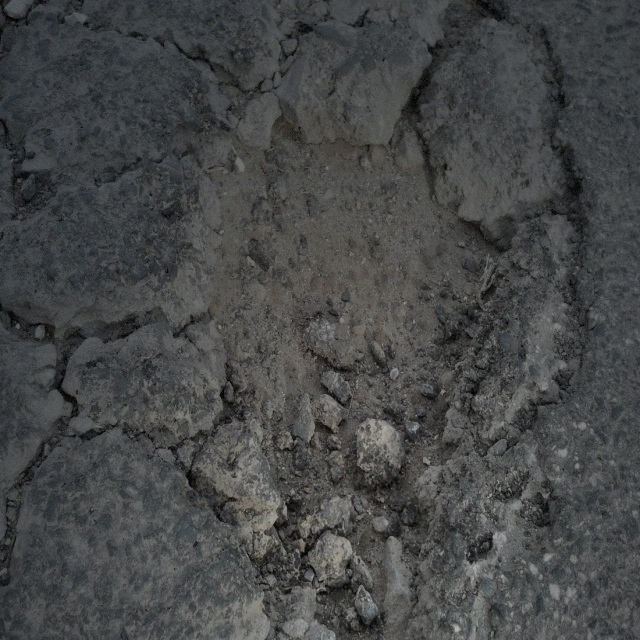pothole: (192, 56, 516, 575)
